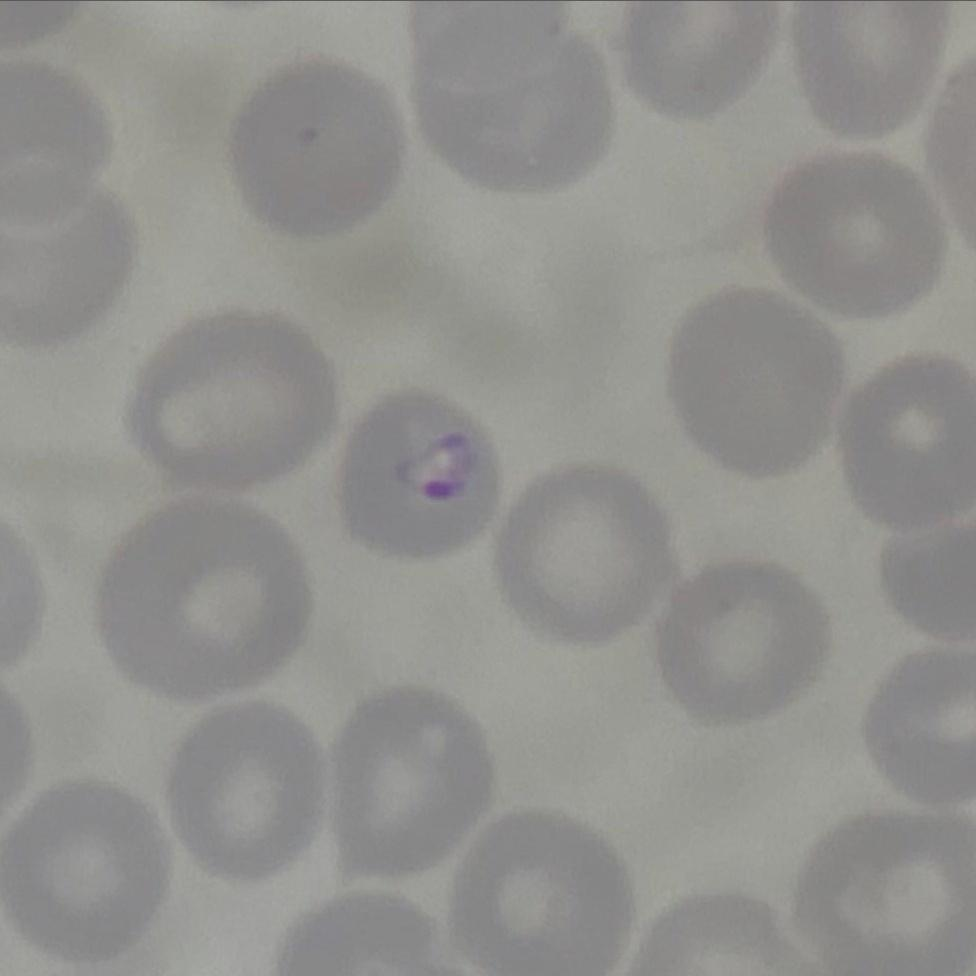Infected: (332, 386, 497, 558)
Uninfected: (95, 496, 309, 701), (130, 308, 332, 498), (413, 26, 616, 194), (668, 286, 847, 473), (5, 773, 178, 958), (333, 683, 491, 883), (495, 461, 666, 645), (447, 808, 634, 976), (235, 53, 403, 239), (793, 811, 976, 976), (767, 153, 944, 323), (660, 556, 831, 723), (175, 696, 319, 882), (832, 353, 976, 528), (3, 158, 131, 343), (790, 1, 944, 141), (0, 63, 118, 234), (620, 0, 779, 119), (868, 638, 976, 808)
